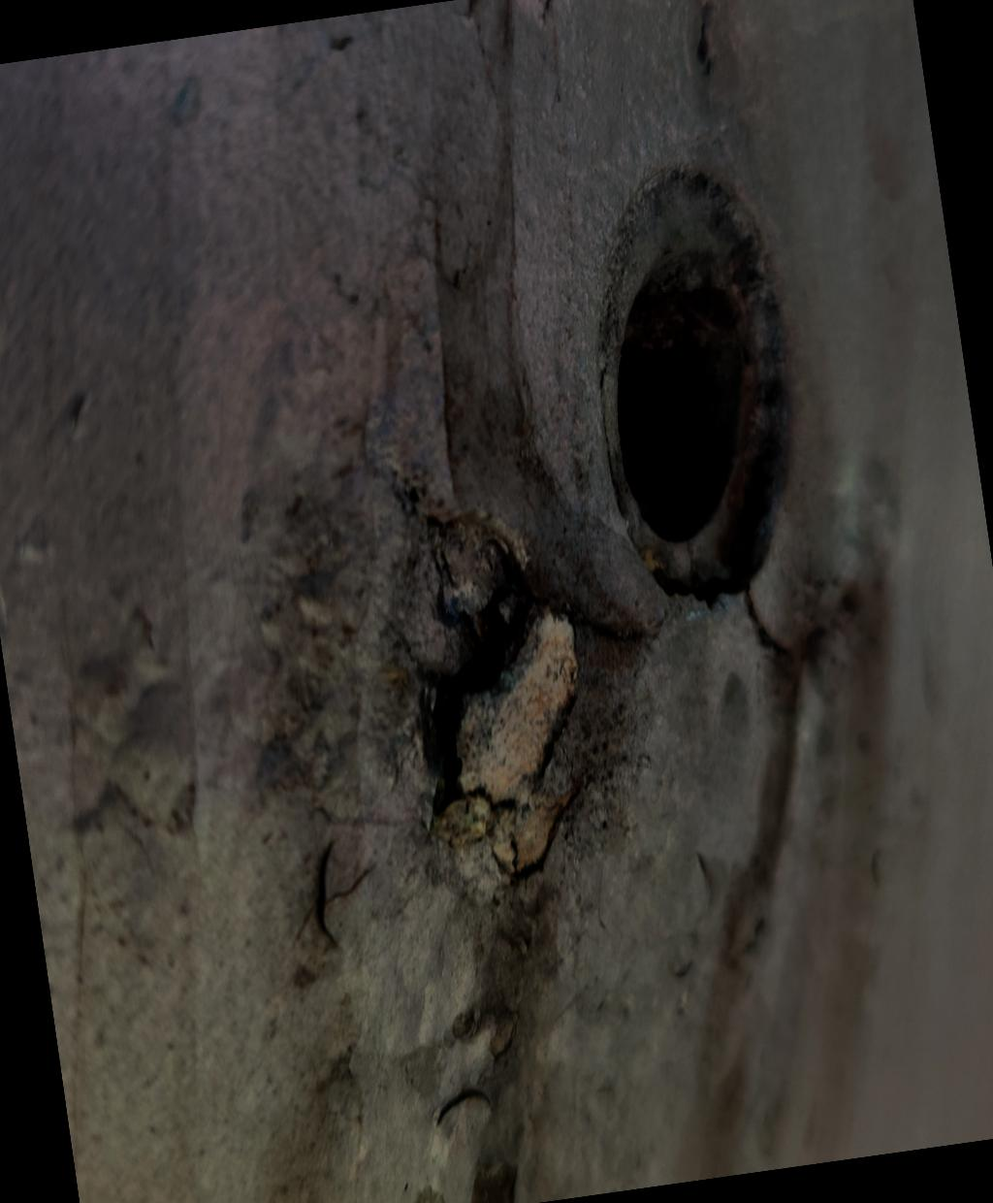crack: (342, 476, 690, 912)
